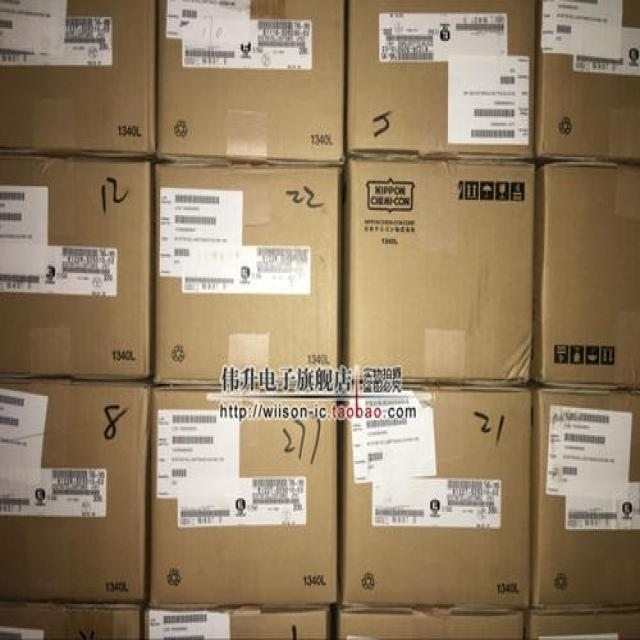box: (346, 155, 534, 385), (150, 161, 342, 385), (342, 384, 532, 608), (146, 385, 337, 607), (0, 153, 153, 380), (1, 378, 150, 603), (156, 0, 345, 165), (347, 0, 536, 160), (525, 383, 639, 608), (530, 161, 639, 389), (0, 0, 156, 156), (535, 0, 639, 162), (142, 606, 330, 638), (337, 607, 524, 638), (0, 603, 143, 638), (525, 609, 639, 638)
